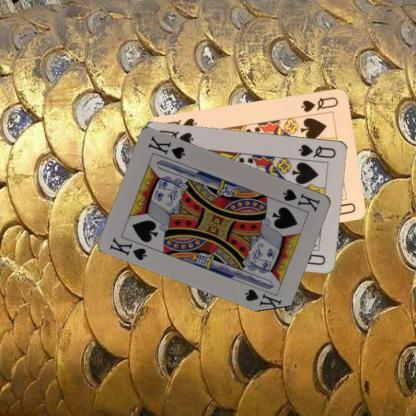Ks: (107, 234, 148, 262), (280, 186, 322, 213)
Qs: (298, 94, 340, 114), (296, 140, 338, 160)
